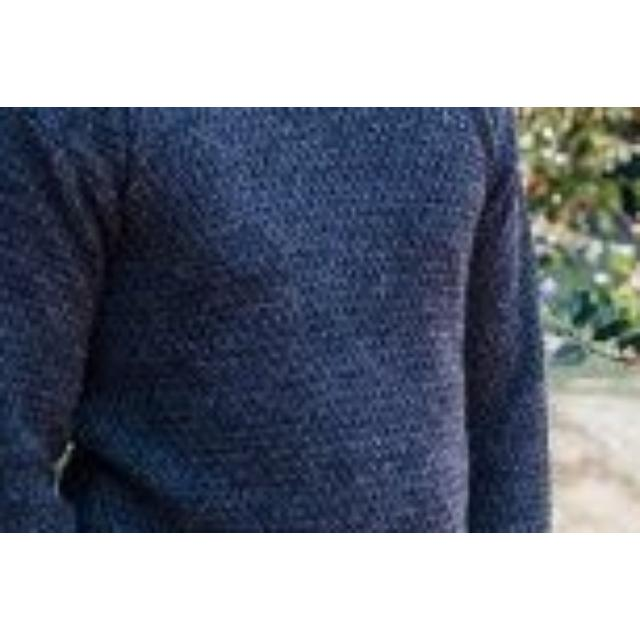wool: (0, 107, 556, 533)
